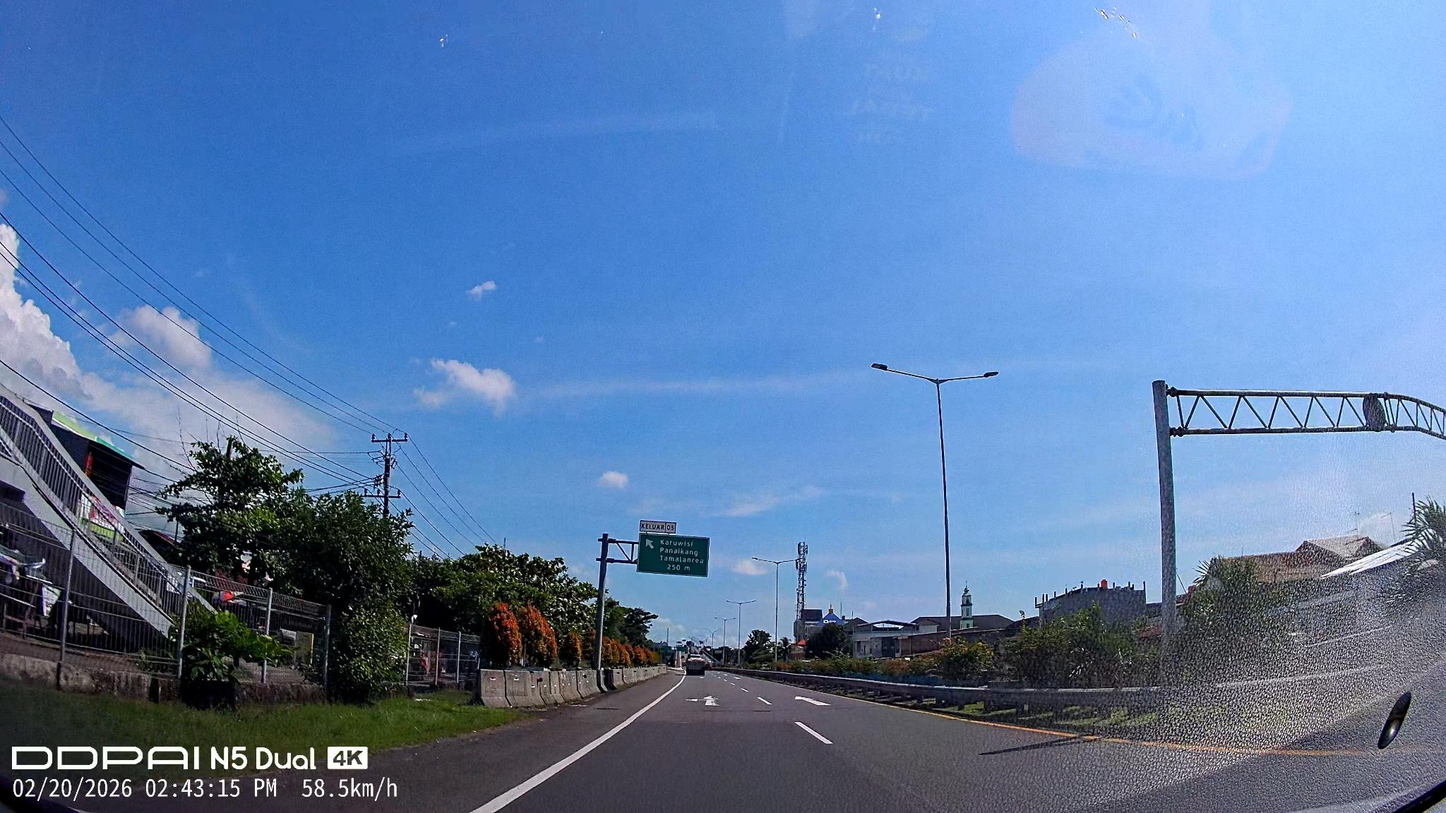rambu_teks: (637, 532, 710, 577)
